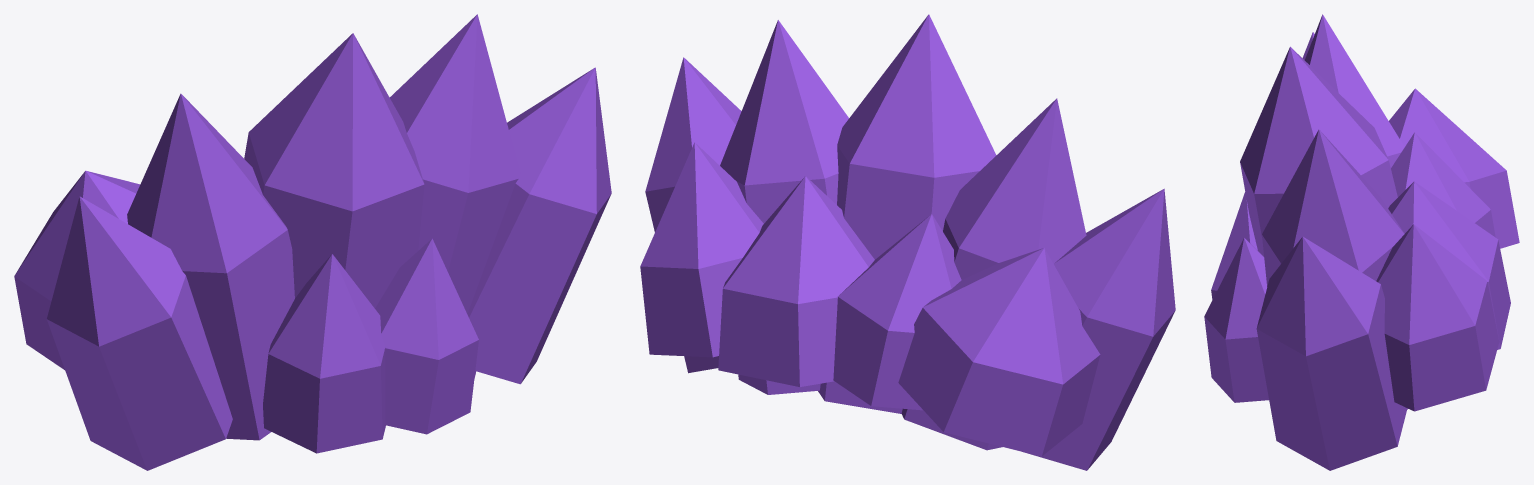
The model's file is Geode_Cluster_B.fbx.
The picture shows the model from 3 angles, left to right: view 1: azimuth 30°, elevation 25°; view 2: azimuth 150°, elevation 25°; view 3: azimuth 270°, elevation 25°; orthographic projection. The views are drawn at different scales.
Parts seen in each view (by area): view 1: Crystal1, Crystal2, Crystal3; view 2: Crystal2, Crystal1, Crystal3; view 3: Crystal2, Crystal1, Crystal3.
Part boxes in pixels (bbox=[...]): Crystal1: bbox=[47, 33, 478, 470]; Crystal2: bbox=[14, 67, 611, 440]; Crystal3: bbox=[263, 14, 520, 453]; Crystal2: bbox=[640, 57, 1100, 456]; Crystal1: bbox=[718, 14, 1175, 470]; Crystal3: bbox=[720, 20, 961, 410]; Crystal2: bbox=[1256, 14, 1519, 470]; Crystal1: bbox=[1204, 32, 1510, 402]; Crystal3: bbox=[1211, 129, 1495, 409].
Bounding box in the file's own units: 1.4 × 0.9822 × 0.83.
